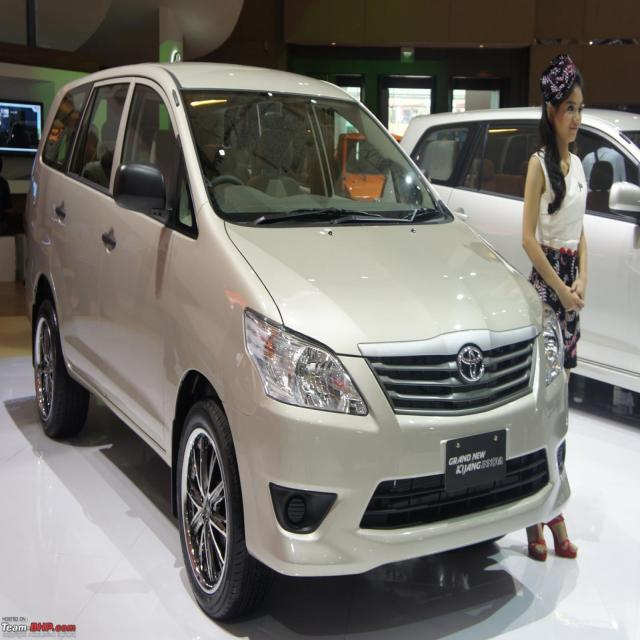light_vehicle: (21, 60, 572, 620)
